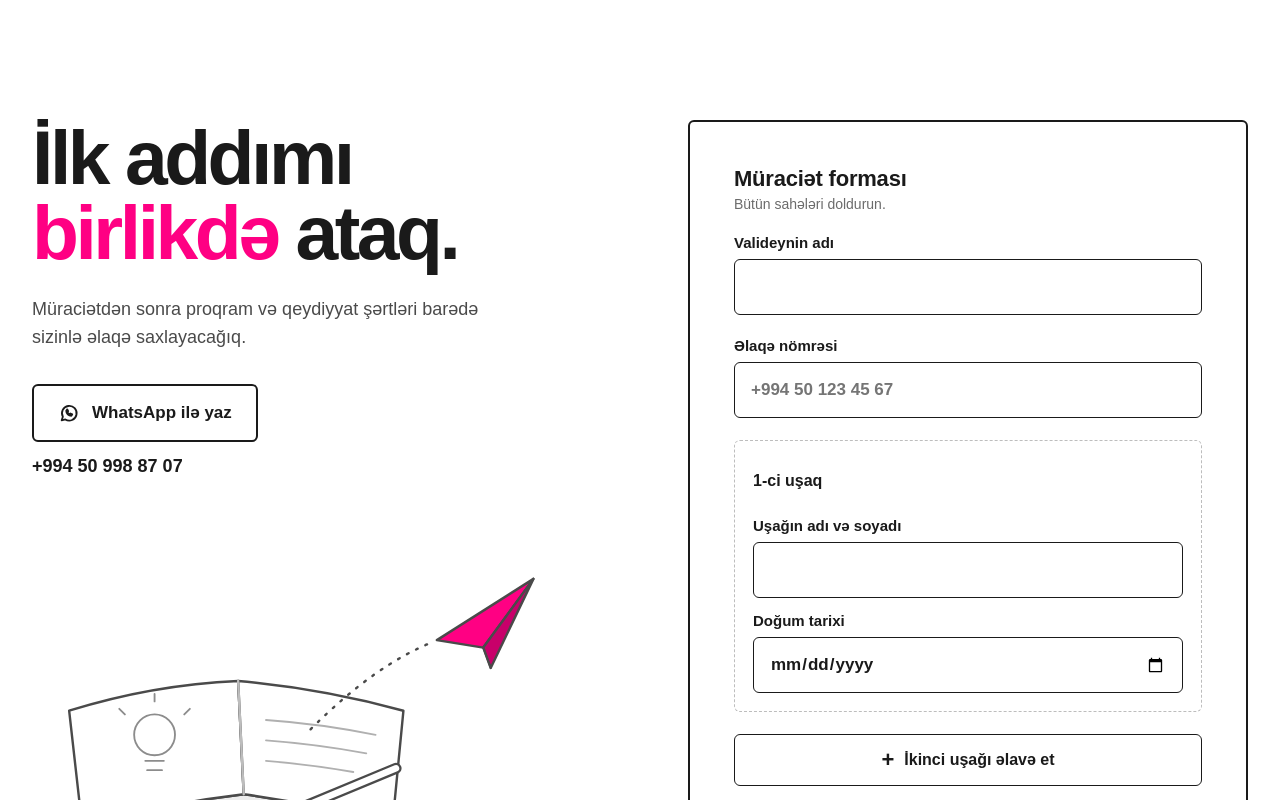
Apply form › validation › rejects the phone number "abc"
The image size is (1280, 800).
Step 1. Type "abc" into the field labelled "Əlaqə nömrəsi" → (968, 390), box [734, 362, 1202, 418]
(page scrolled)
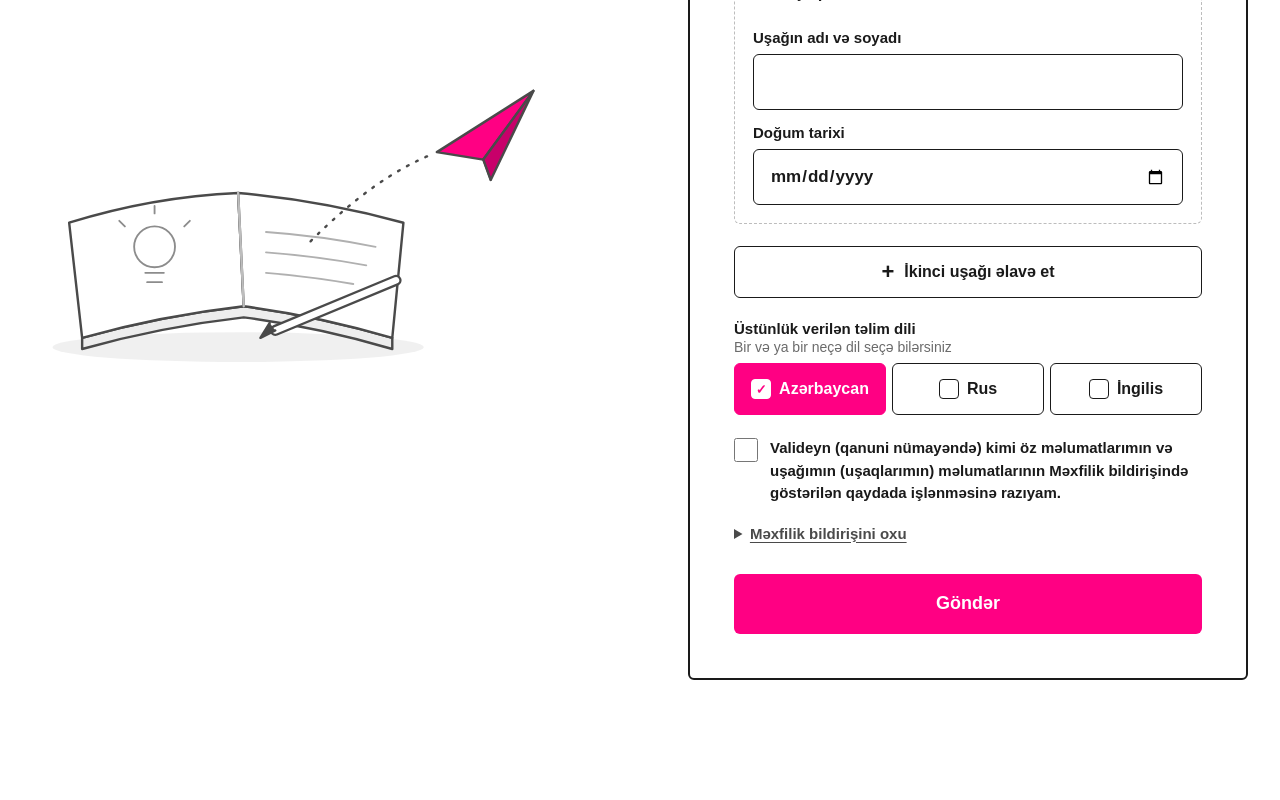
Step 2. Click the button "Göndər" → (968, 604), box [734, 574, 1202, 634]
(page scrolled)
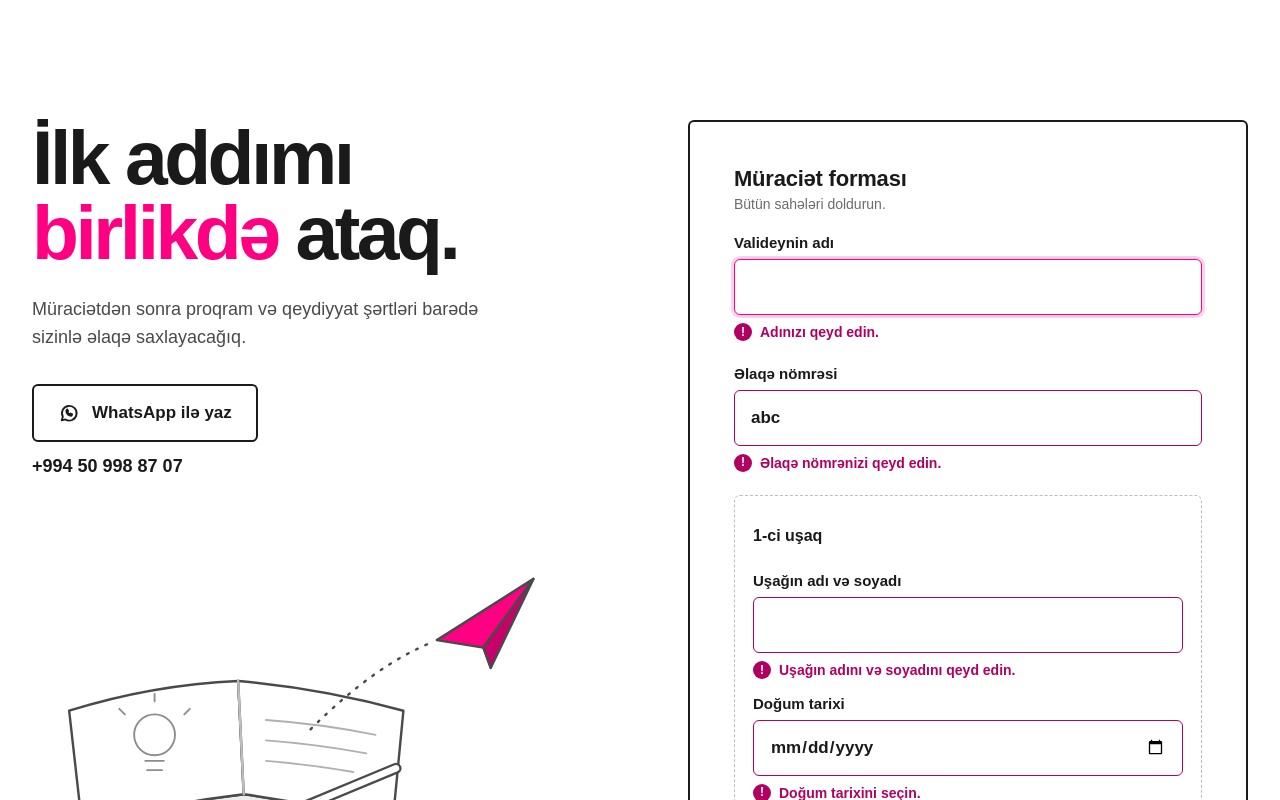
Expected: the text "! Əlaqə nömrənizi qeyd edin." is shown, [734, 454, 941, 472]
